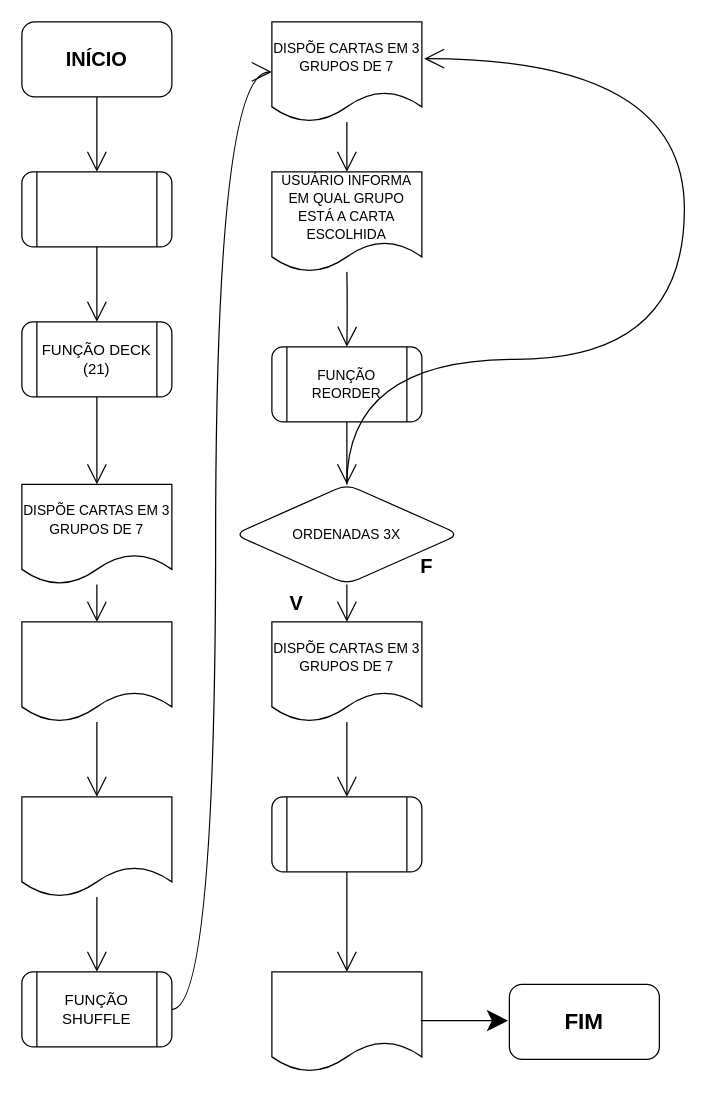
Image size: 706x1094. Some labels were removed from this diagram. The shapes that lost their labels are listed below. From the top down, each one's box as (x1, y1, x2, y2) in pixels, then its label:
(21, 171, 172, 247): FUNÇÃO DECK (52)
(21, 621, 172, 722): USUÁRIO ESCOLHE UMA CARTA E GUARDA O VALOR
(21, 796, 172, 897): SELECIONE 1 PARA EMBARALHAR
(271, 796, 422, 872): FUNÇÃO BUSCA ÍNDICE
(271, 971, 422, 1072): IMPRIME CARTA ESCOLHIDA PARA O USUÁRIO
